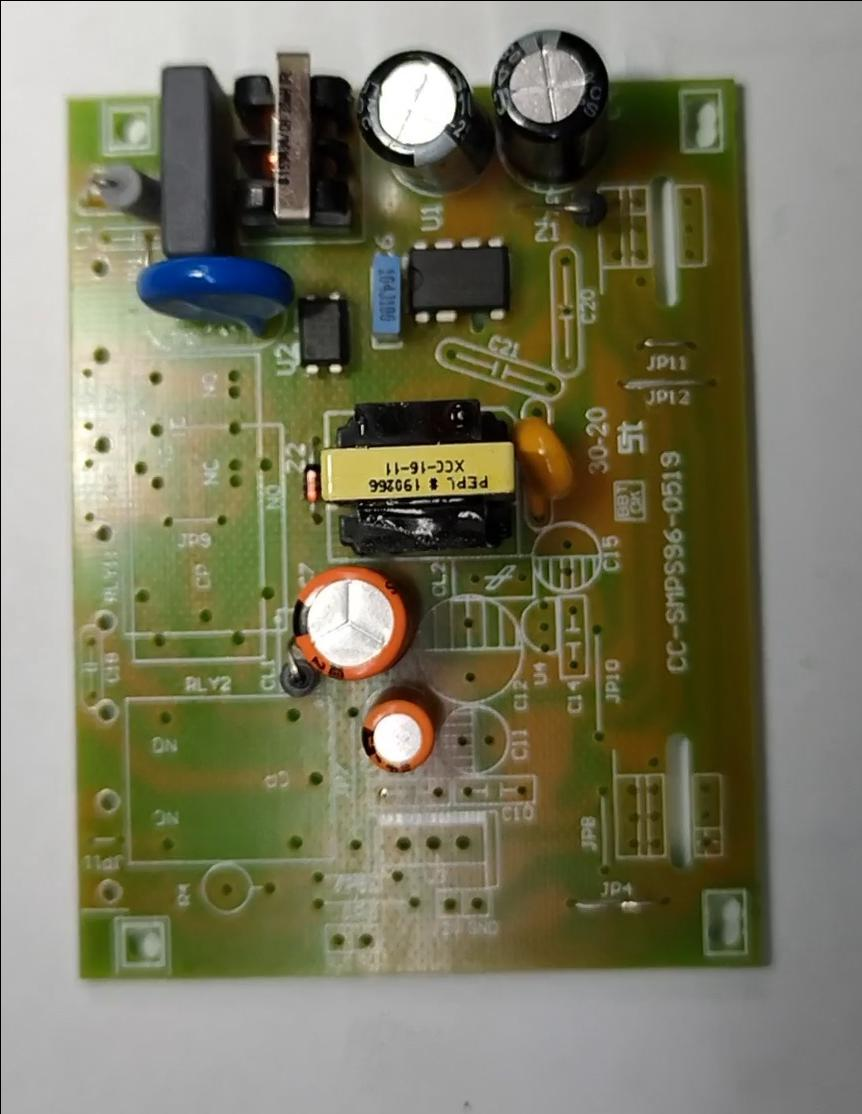Cap1: (284, 558, 411, 683)
Cap2: (357, 690, 435, 778)
Cap3: (350, 45, 487, 197)
Cap4: (487, 24, 610, 182)
MOSFET: (405, 232, 512, 327)
Mov: (128, 250, 295, 347)
Resistor: (83, 152, 153, 223)
Transformer: (319, 394, 517, 555), (215, 41, 360, 239)
